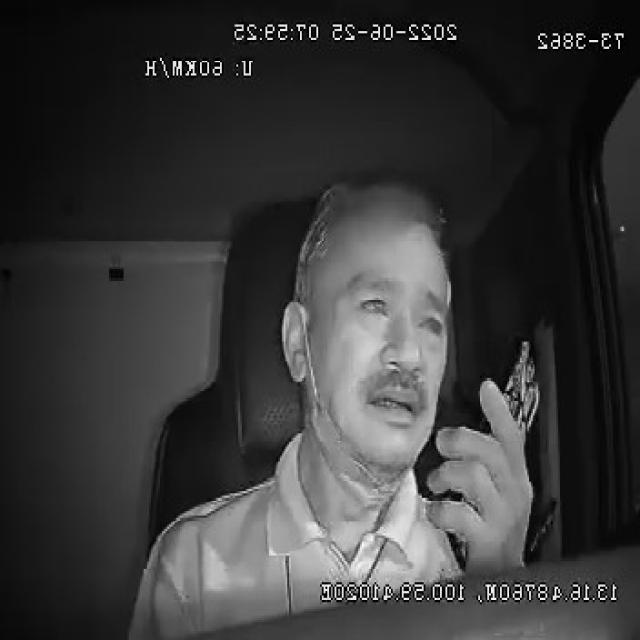phone: (447, 331, 542, 570)
